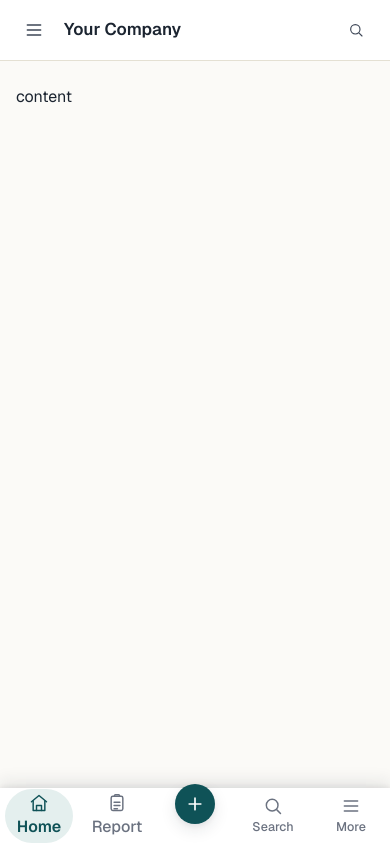
AppShell — PWA install › tapping "Search" on the Supervisor bar opens the same global search palette
The image size is (390, 844).
Click the button "Search".
click(273, 816)  # box [234,788,312,843]
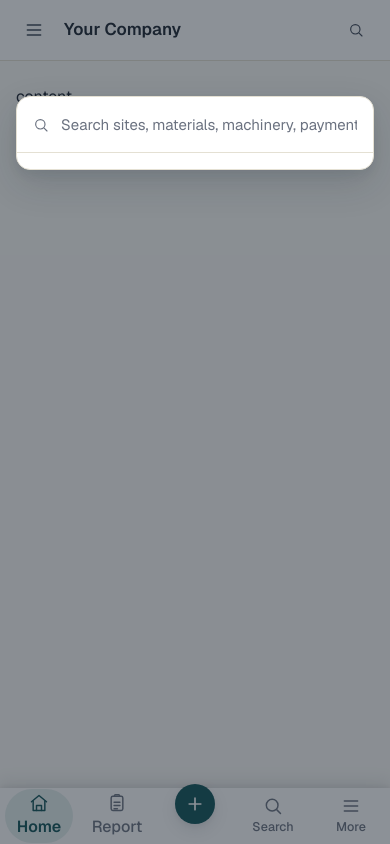
Result: the dialog is shown at [16,96,374,170]
